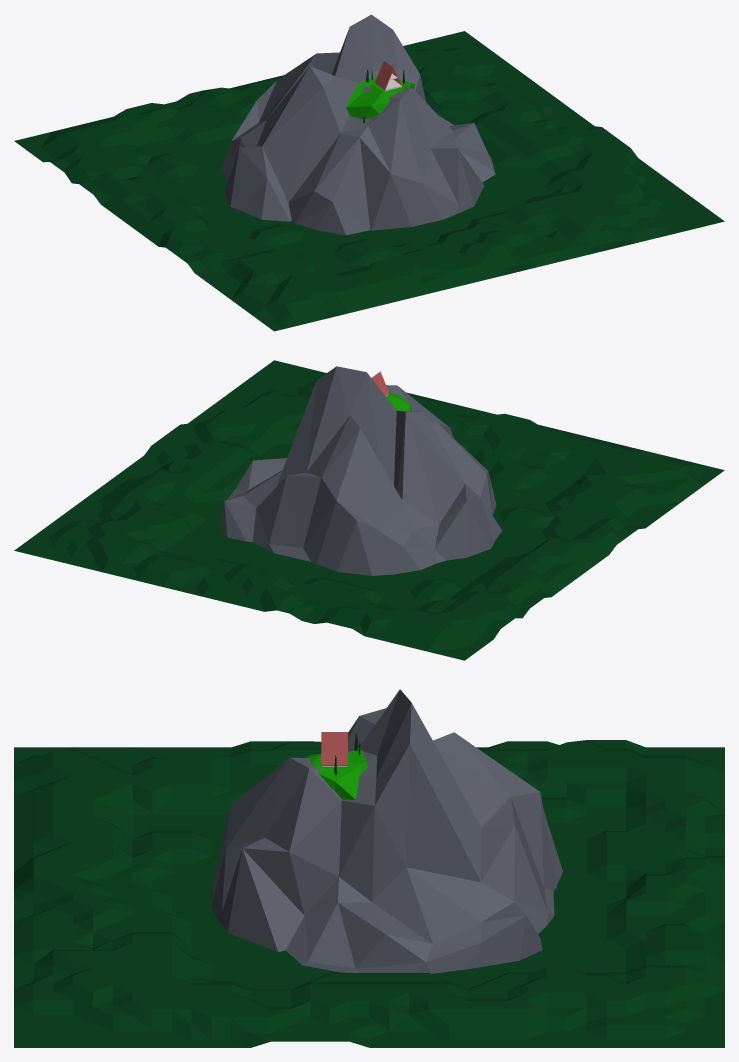
Rendered from office-mt.dae.
3 views of the same model, one above another, from view 1: azimuth 30°, elevation 25°; view 2: azimuth 150°, elevation 25°; view 3: azimuth 270°, elevation 25° (orthographic). The views are drawn at different scales.
Parts seen in each view (by area): view 1: Grid, Icosphere_003, Icosphere_004; view 2: Grid, Icosphere_003; view 3: Grid, Icosphere_003, Icosphere_004, Cube_002.
Boxes of the visible parts, bbox=[...] form: Grid: bbox=[14, 31, 724, 331]; Icosphere_003: bbox=[221, 14, 495, 235]; Icosphere_004: bbox=[346, 77, 414, 119]; Grid: bbox=[14, 360, 724, 660]; Icosphere_003: bbox=[220, 366, 502, 575]; Grid: bbox=[14, 740, 724, 1047]; Icosphere_003: bbox=[211, 689, 562, 973]; Icosphere_004: bbox=[305, 748, 367, 799]; Cube_002: bbox=[321, 732, 347, 765].
Bounding box in the file's own units: 108 × 108 × 41.09.
